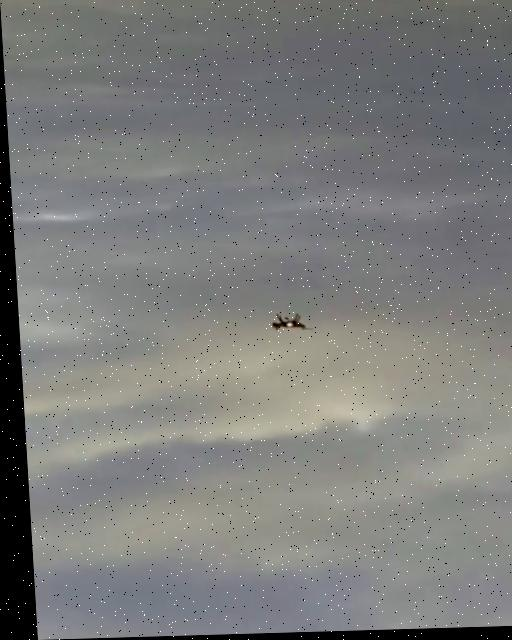drone: (264, 312, 309, 338)
